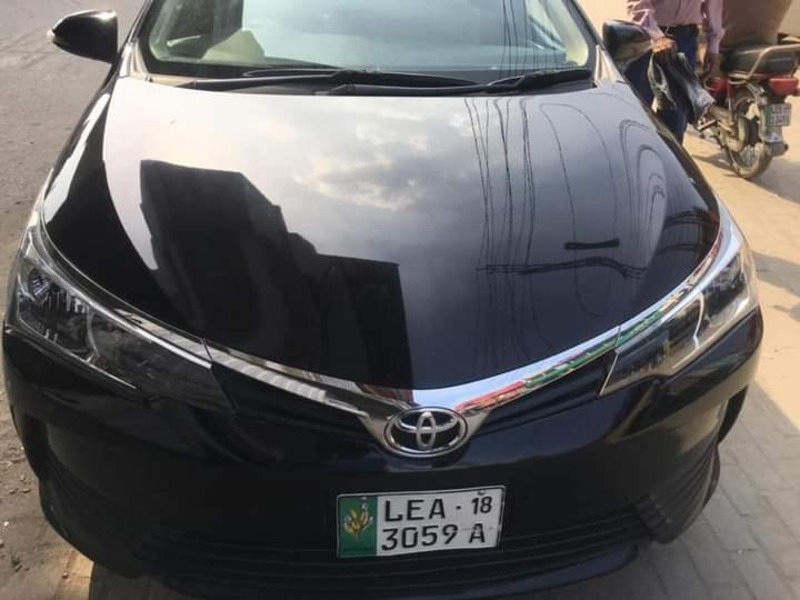License Plate: (328, 484, 508, 560)
